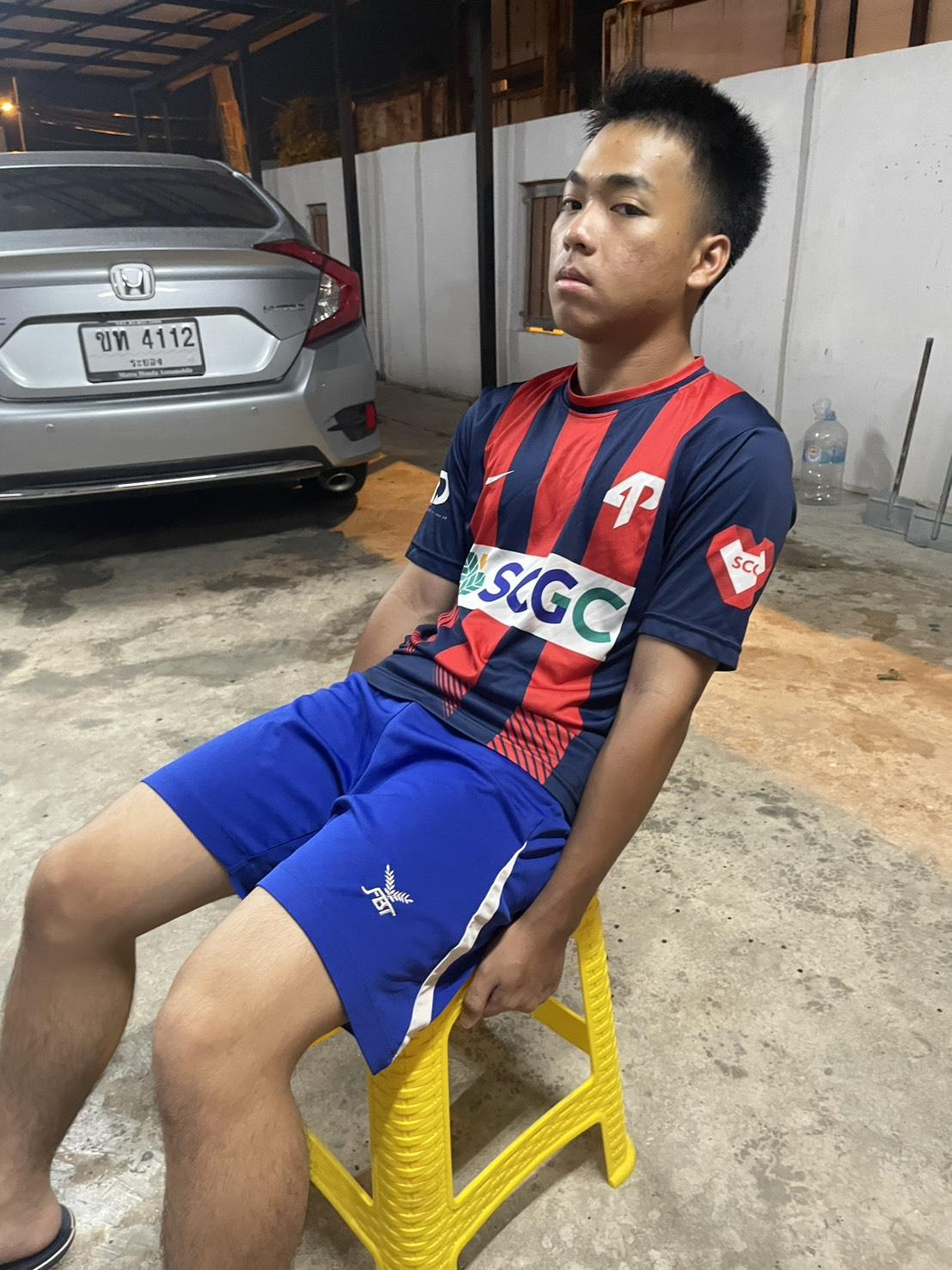BadPosture: (142, 76, 797, 947)
